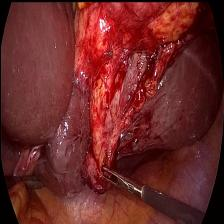Grasper: (95, 154, 145, 196)
